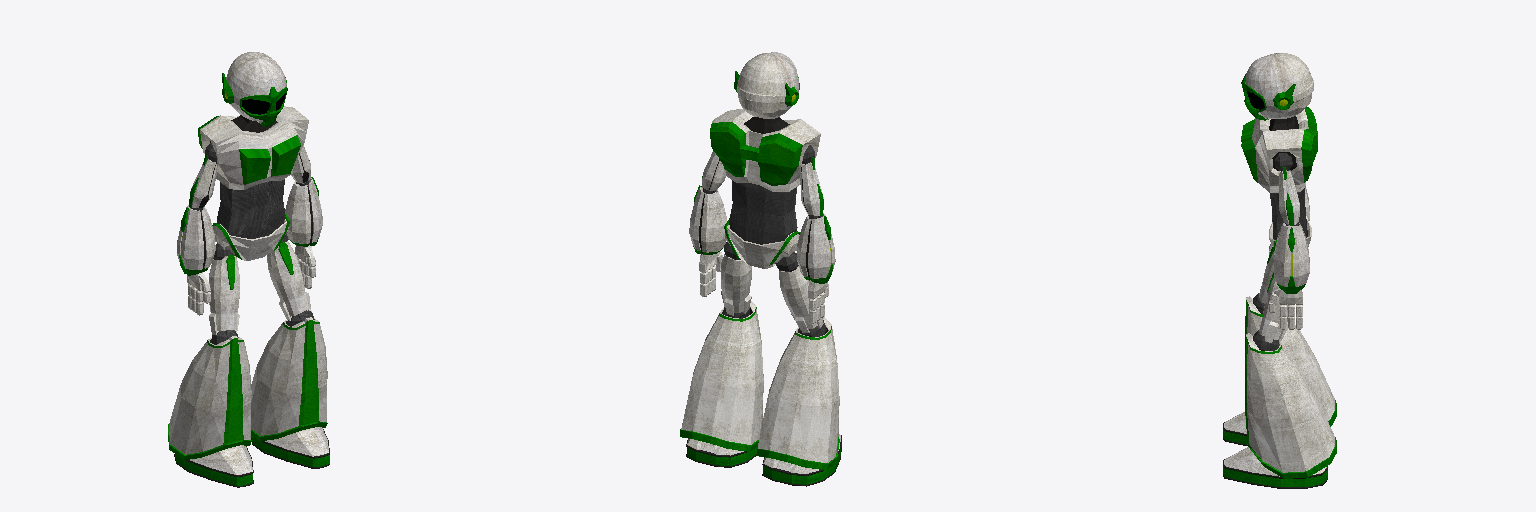
The picture shows the model from 3 angles: view 1: azimuth 30°, elevation 25°; view 2: azimuth 150°, elevation 25°; view 3: azimuth 270°, elevation 25°; orthographic projection.
Visible parts, largest first — view 1: Cube.002_Cube.010, unterschenkel01_Cube.002, unterschenkel01.001_Cube.007, Sphere, Oberschenkel01.001_Cube.014, Oberschenkel01_Cube.009, Cylinder.001_Cylinder.003, Fuss01.001_Cube.005, Fuss01_Cube, Cylinder.002_Cylinder.001, OberschenkelKnochen01.003_Cube.024; view 2: Cube.002_Cube.010, unterschenkel01_Cube.002, unterschenkel01.001_Cube.007, Sphere, Cylinder.001_Cylinder.003, Cylinder.002_Cylinder.001, Oberschenkel01.001_Cube.014, Oberschenkel01_Cube.009, Fuss01_Cube, Fuss01.001_Cube.005, OberschenkelKnochen01.003_Cube.024, OberschenkelKnochen01.002_Cube.015; view 3: unterschenkel01.001_Cube.007, Cube.002_Cube.010, Sphere, unterschenkel01_Cube.002, Cylinder.002_Cylinder.001, Fuss01.001_Cube.005, OberschenkelKnochen01.002_Cube.015, Oberschenkel01_Cube.009, Fuss01_Cube.
Part boxes in pixels (x1,y1,x2,y2): Cube.002_Cube.010: (198, 106, 308, 260); unterschenkel01_Cube.002: (168, 336, 251, 459); unterschenkel01.001_Cube.007: (251, 317, 327, 440); Sphere: (222, 52, 287, 126); Oberschenkel01.001_Cube.014: (209, 243, 239, 344); Oberschenkel01_Cube.009: (267, 234, 314, 326); Cylinder.001_Cylinder.003: (177, 205, 215, 275); Fuss01.001_Cube.005: (251, 427, 329, 468); Fuss01_Cube: (174, 445, 253, 487); Cylinder.002_Cylinder.001: (285, 177, 322, 246); OberschenkelKnochen01.003_Cube.024: (189, 143, 217, 211); Cube.002_Cube.010: (710, 109, 820, 268); unterschenkel01_Cube.002: (757, 315, 839, 469); unterschenkel01.001_Cube.007: (680, 301, 763, 451); Sphere: (734, 52, 799, 118); Cylinder.001_Cylinder.003: (797, 213, 835, 283); Cylinder.002_Cylinder.001: (689, 185, 726, 254); Oberschenkel01.001_Cube.014: (775, 252, 826, 336); Oberschenkel01_Cube.009: (721, 242, 751, 317); Fuss01_Cube: (762, 434, 841, 486); Fuss01.001_Cube.005: (686, 416, 763, 467); OberschenkelKnochen01.003_Cube.024: (800, 145, 823, 218); OberschenkelKnochen01.002_Cube.015: (701, 151, 725, 193); unterschenkel01.001_Cube.007: (1245, 333, 1336, 478); Cube.002_Cube.010: (1241, 107, 1317, 250); Sphere: (1241, 53, 1313, 120); unterschenkel01_Cube.002: (1245, 296, 1336, 426); Cylinder.002_Cylinder.001: (1273, 223, 1309, 293); Fuss01.001_Cube.005: (1223, 447, 1327, 488); OberschenkelKnochen01.002_Cube.015: (1275, 153, 1299, 225); Oberschenkel01_Cube.009: (1253, 273, 1287, 350); Fuss01_Cube: (1223, 412, 1248, 446).
Bounding box in the file's own units: 4.64 × 12.05 × 3.13.
Materials: 6 (4 with a texture image).